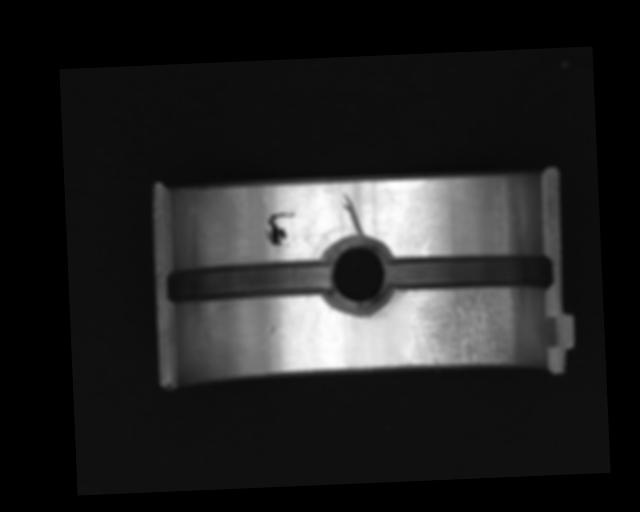blot: (264, 211, 298, 247)
bruise: (265, 323, 277, 334)
gap: (166, 256, 335, 308), (389, 250, 554, 295)
hole: (318, 236, 396, 315)
nick: (340, 190, 364, 238), (416, 238, 431, 257)
scratch: (405, 286, 524, 367)
